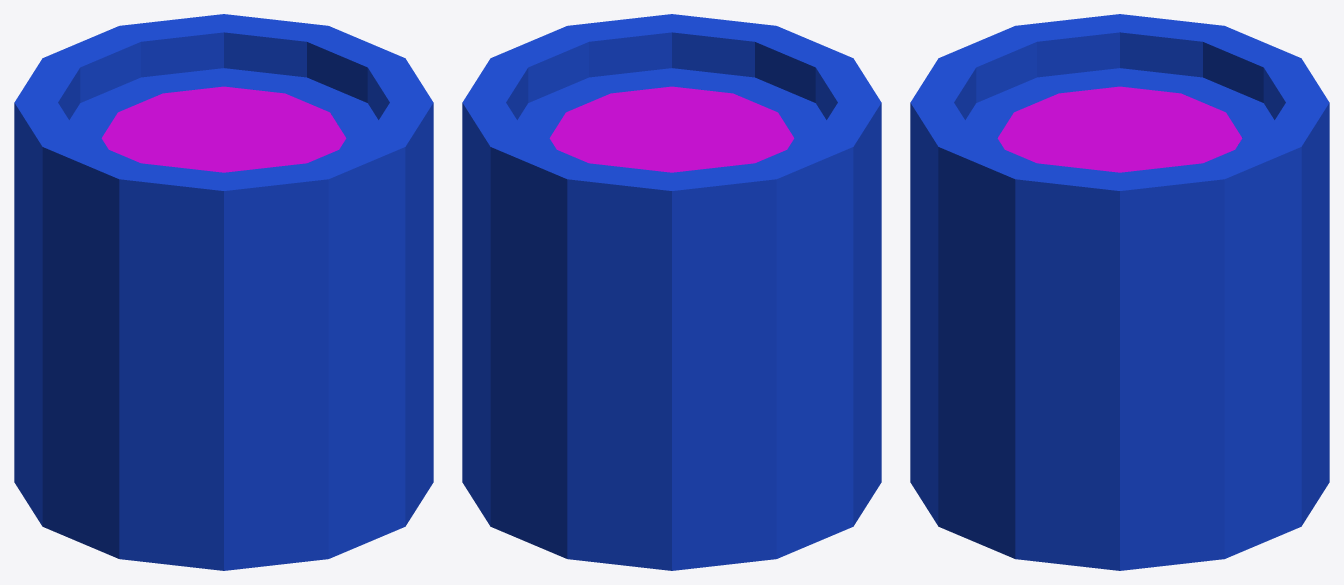
The model's file is barrel.glb.
3 views of the same model, side by side, from view 1: azimuth 30°, elevation 25°; view 2: azimuth 150°, elevation 25°; view 3: azimuth 270°, elevation 25° (orthographic).
Parts seen in each view (by area): view 1: Cylinder; view 2: Cylinder; view 3: Cylinder.
Part boxes in pixels (x1,y1,x2,y2): Cylinder: (14,14,433,570); Cylinder: (462,14,881,570); Cylinder: (910,14,1329,570).
Size of what is drawn, in the model's own units: 2 by 2 by 2.
